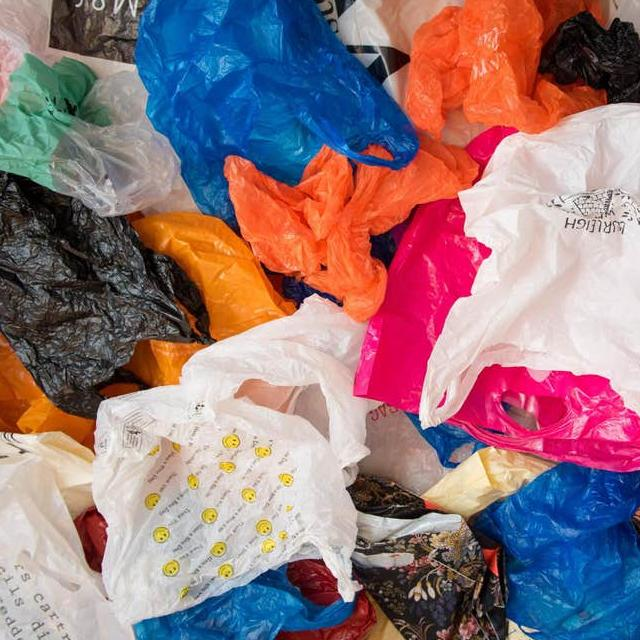Single-layer Plastic: (419, 105, 640, 426), (135, 0, 418, 226), (92, 386, 358, 624), (0, 171, 211, 417), (224, 132, 478, 321), (180, 295, 376, 467), (0, 54, 179, 216), (355, 199, 490, 412), (479, 462, 640, 639), (0, 432, 134, 639), (406, 0, 606, 137), (446, 365, 640, 472), (132, 212, 295, 339), (134, 565, 354, 640), (0, 54, 96, 189), (0, 332, 95, 447), (422, 446, 555, 517), (539, 12, 640, 103)
